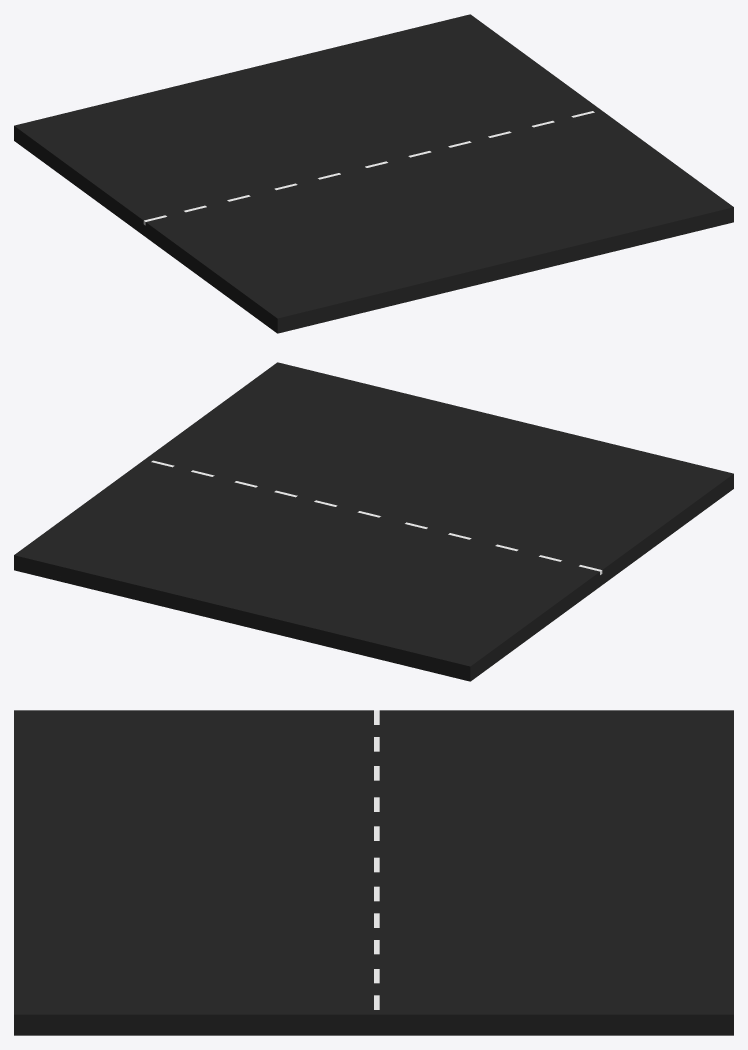
Rendered from Street-2.obj.
3 renders of one model, top to bottom at view 1: azimuth 30°, elevation 25°; view 2: azimuth 150°, elevation 25°; view 3: azimuth 270°, elevation 25°, orthographic. The views are drawn at different scales.
Size of the model in its own units: 12.6 by 0.4 by 12.6.
1 material, 1 textured.
